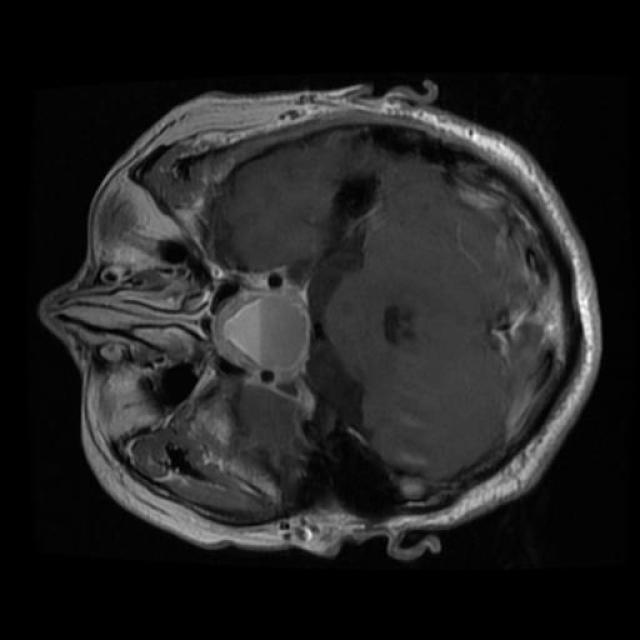Pituitary: (212, 278, 311, 384)
